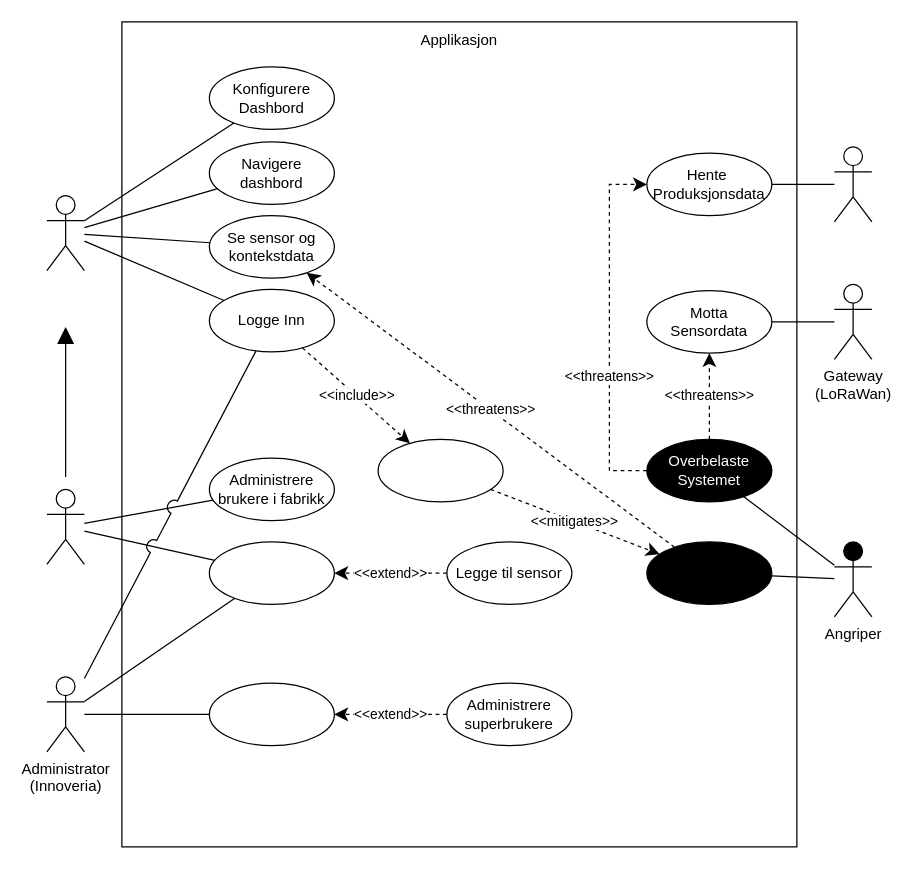
Some shapes in this 923 by 869 pixel diagram are drawn without their labels. The centre of each missing label's shape, as x and y in pixels:
"Administrere fabrikker" goes at point 271,714.
"Autnetisere Bruker" goes at point 440,470.
"Bruker (Fabrikk)" goes at point 65,232.
"ERP-system (Monitor-ERP)" goes at point 852,184.
"Få Tilgang Til Sensor og Kontekst Data" goes at point 709,572.
"Legge til gateway" goes at point 271,572.
"Superbruker (Fabrikk)" goes at point 65,526.
